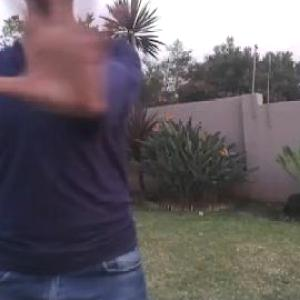follow_hand: (1, 0, 142, 118)
